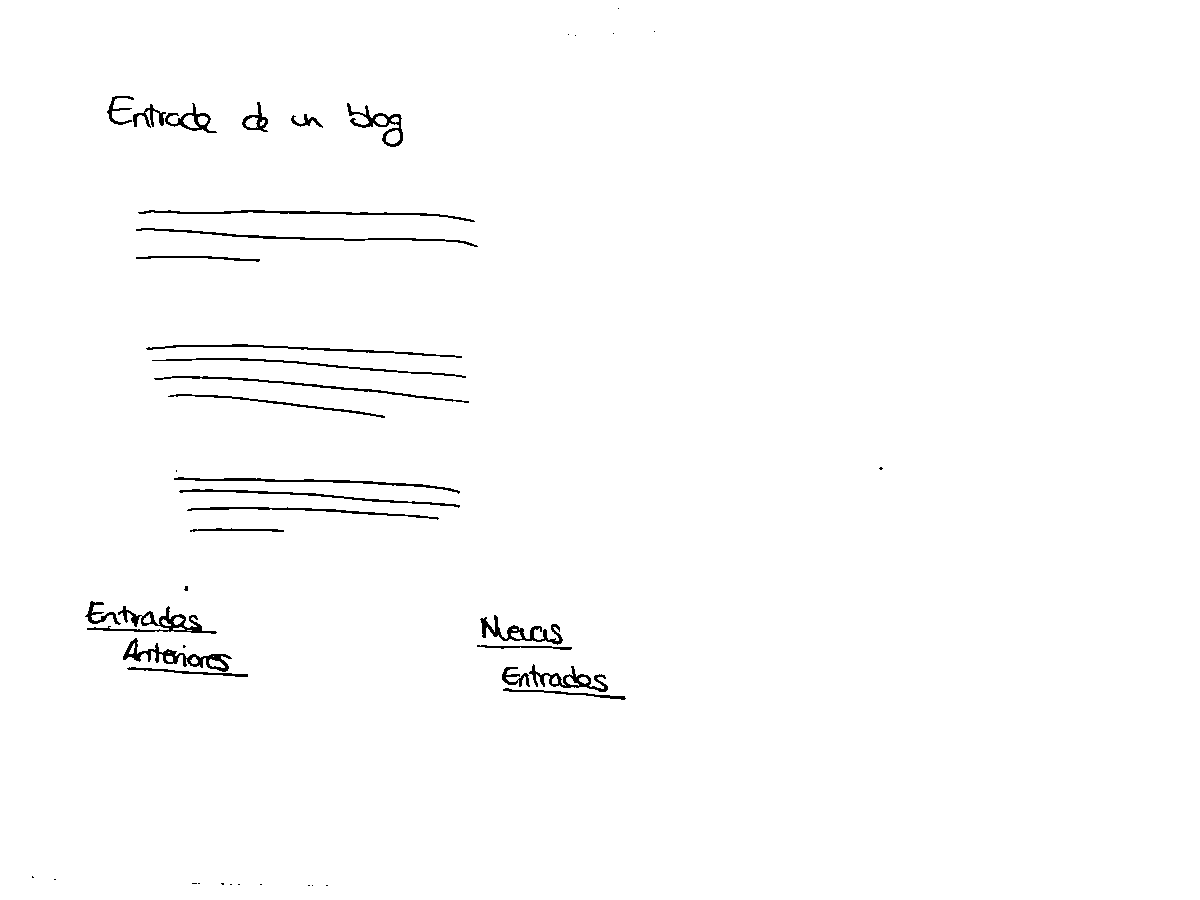Paragraph: (138, 337, 482, 425), (132, 201, 486, 267), (171, 469, 467, 538)
